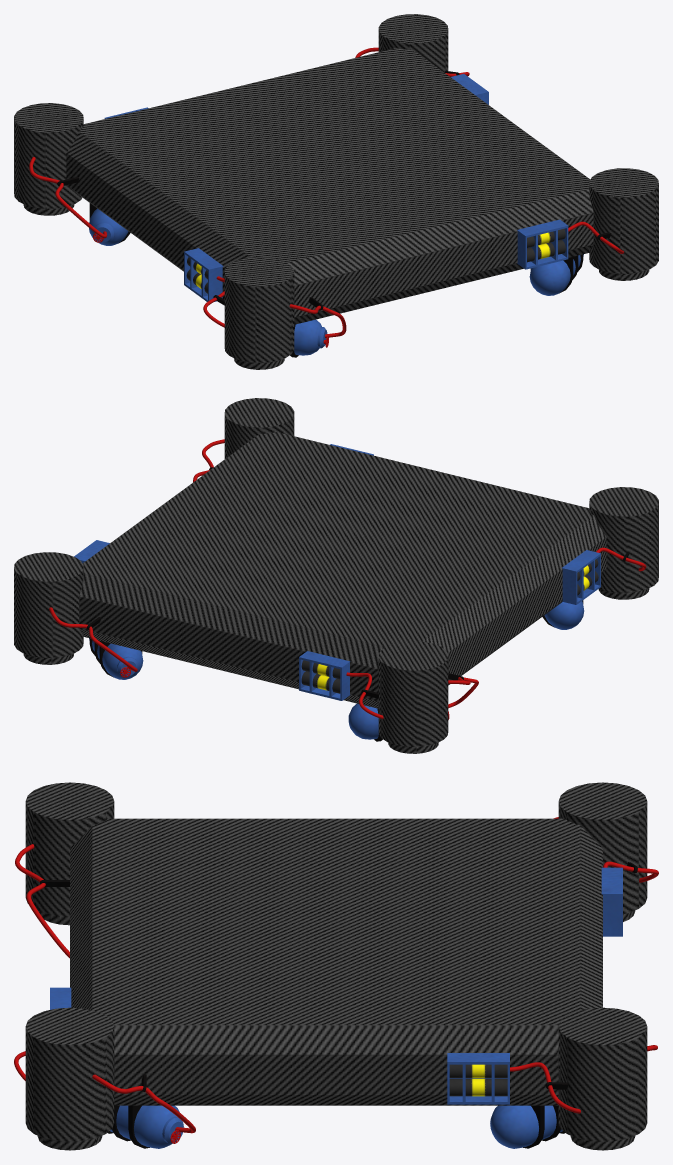
File: floating_platform.glb
3 renders of one model, top to bottom at view 1: azimuth 30°, elevation 25°; view 2: azimuth 150°, elevation 25°; view 3: azimuth 270°, elevation 25°, orthographic. The views are drawn at different scales.
Visible parts, largest first — view 1: pCylinder25; view 2: pCylinder25; view 3: pCylinder25.
Part boxes in pixels (x1=…): pCylinder25: x1=14, y1=14, x2=658, y2=369; pCylinder25: x1=14, y1=398, x2=658, y2=753; pCylinder25: x1=14, y1=782, x2=658, y2=1150.
Size of the model in its own units: 7.26 by 1.73 by 7.26.
Materials: 1 (1 with a texture image).
